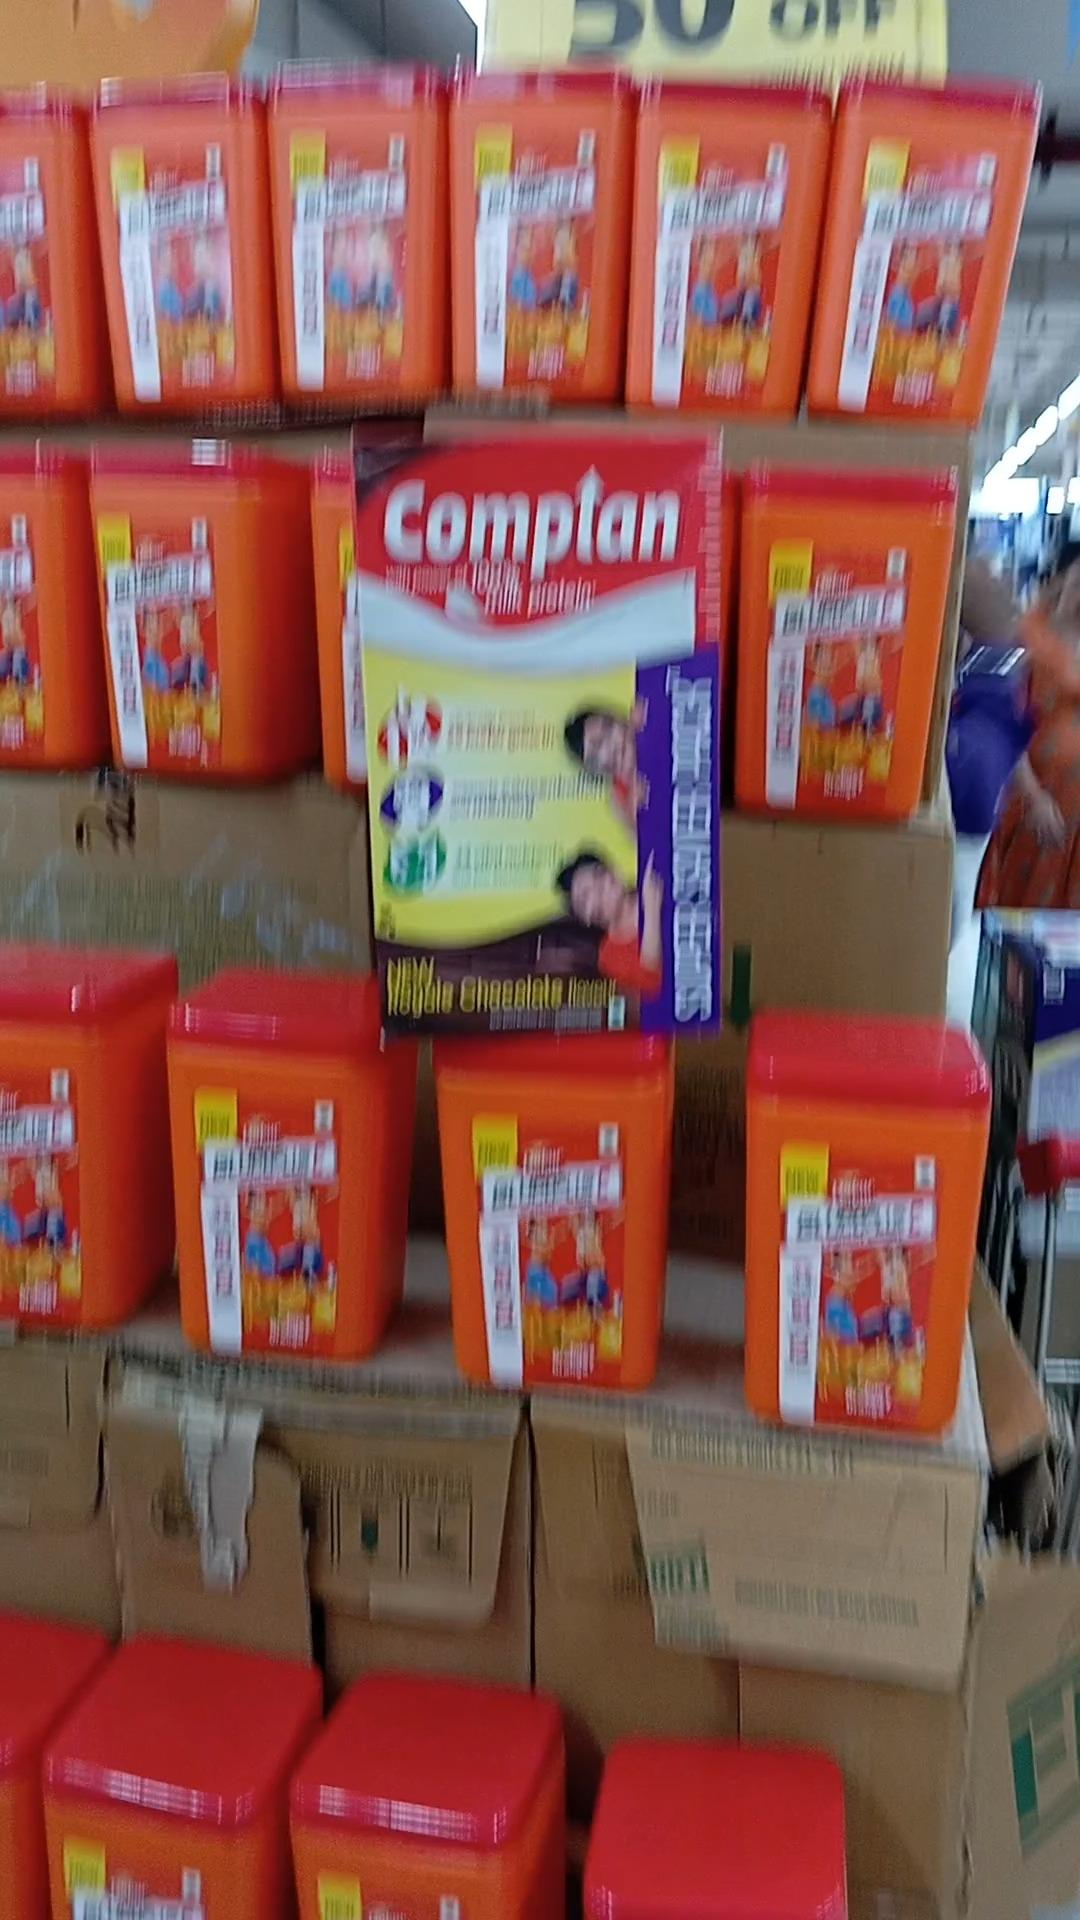COMPLAN_CHOCOLATE_1_KG_PACK: (357, 444, 708, 1034)
